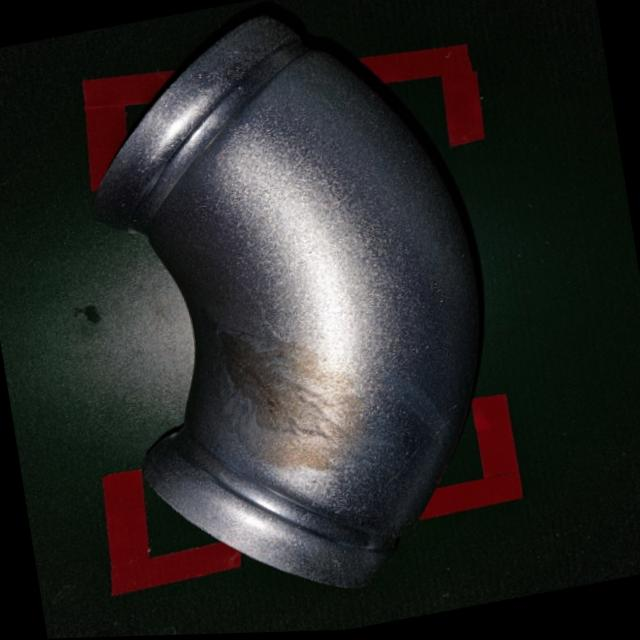Burn: (192, 296, 373, 493)
Defect: (62, 0, 537, 637)
